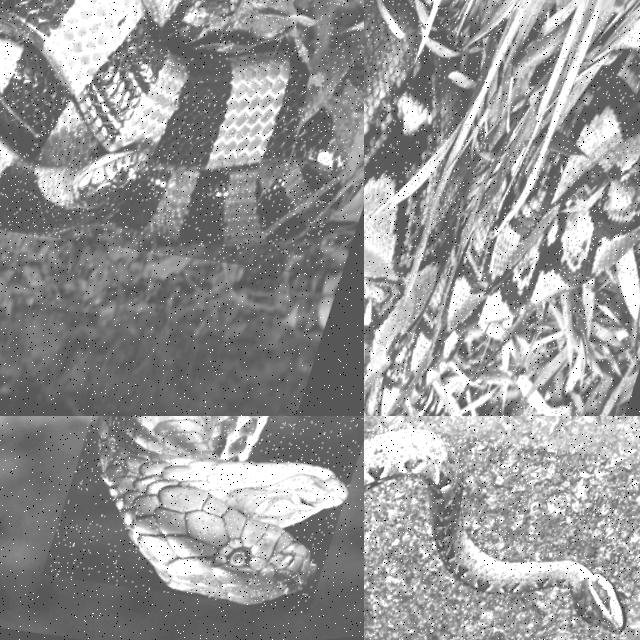Bungarus fasciatus: (0, 0, 335, 244)
Calloselasma rhodostoma: (364, 429, 623, 632)
Malayopython reticulatus: (364, 0, 639, 415)
Ophiophagus hannah: (97, 416, 346, 603)
snake: (364, 0, 639, 415), (0, 0, 335, 244), (364, 429, 623, 632), (97, 416, 346, 603)
